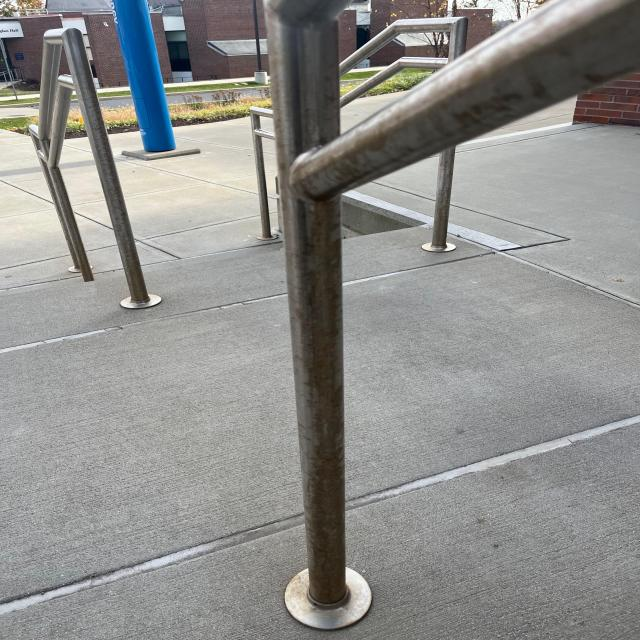Uniform Corrosion: (270, 67, 636, 625)
